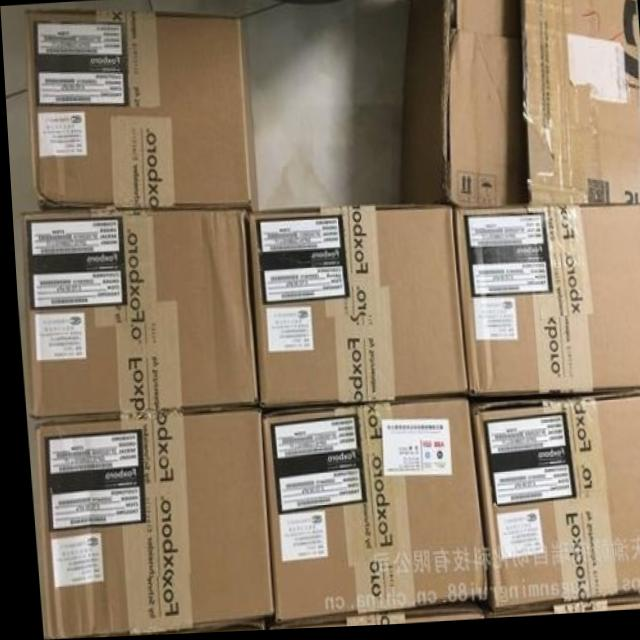box: (32, 413, 267, 640), (18, 210, 253, 420), (259, 401, 481, 623), (22, 11, 256, 211), (246, 206, 462, 413), (467, 400, 640, 612), (451, 211, 640, 400), (394, 0, 526, 211)
